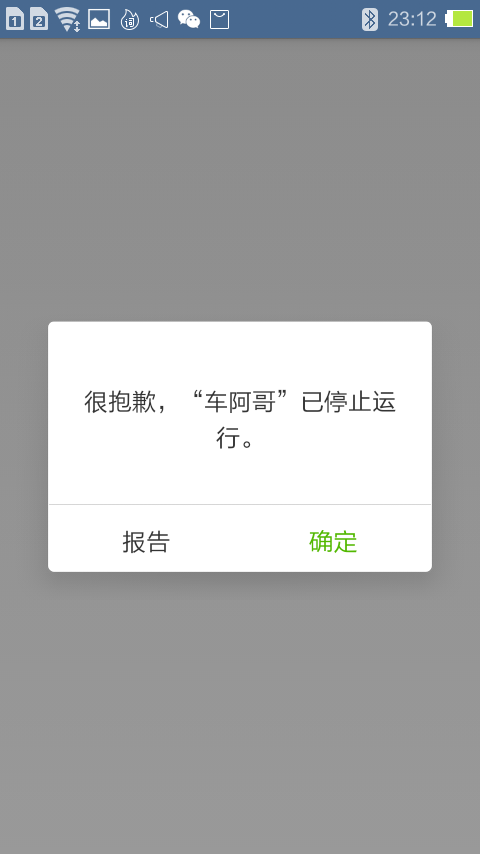alert: (35, 313, 438, 581)
button: (48, 498, 432, 572)
textview: (74, 378, 399, 451)
